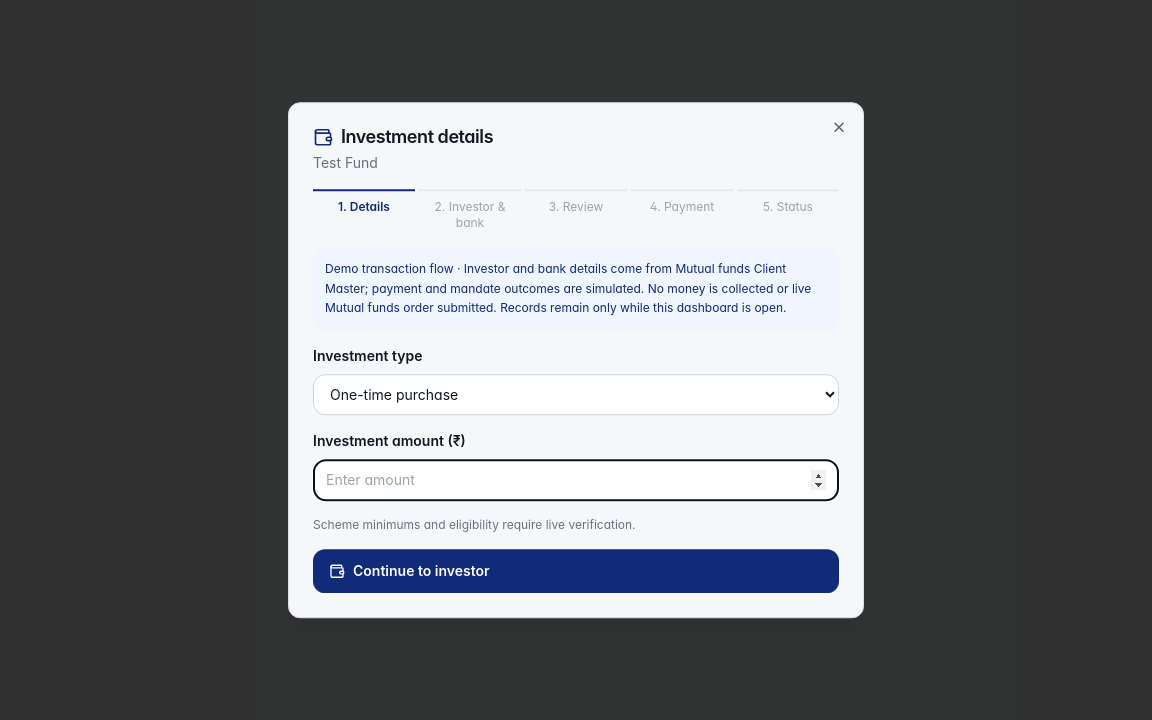
Mutual funds client master investor selection › blocks investment review for no KYC record and rechecks before allowing progression
This screenshot has width=1152, height=720.
Type "500" into the number field labelled "Investment amount (₹)" at (576, 480), box [313,459,839,501]
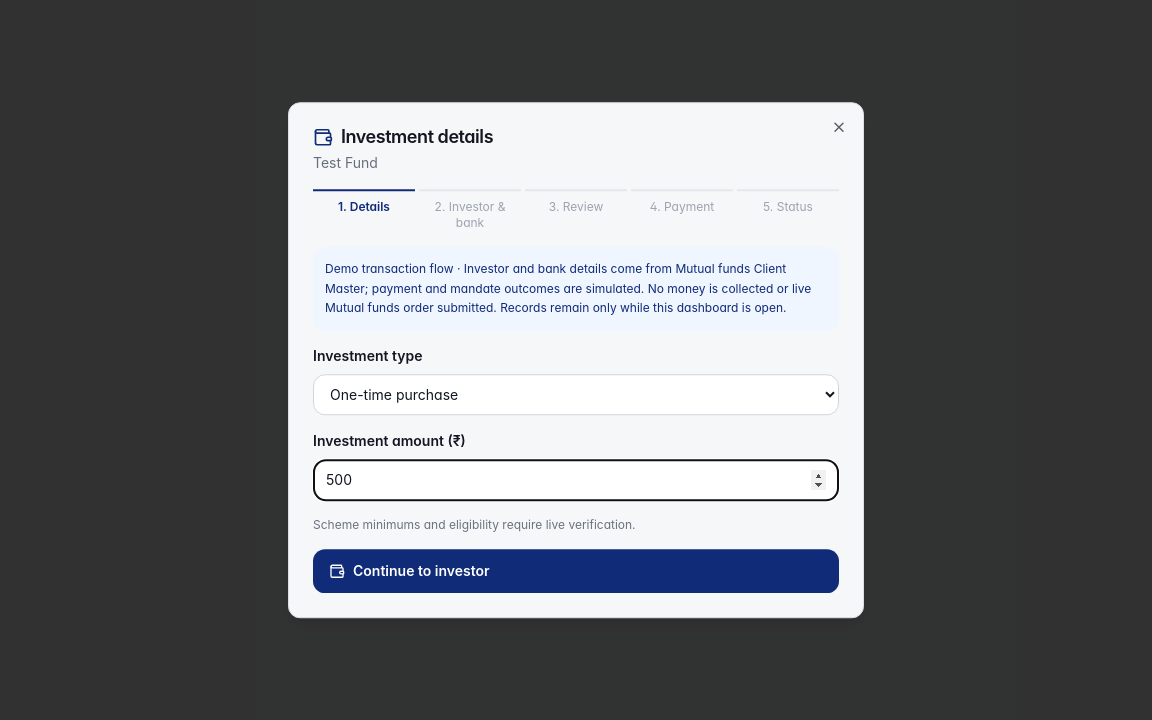
Click the button "Continue to investor" at (421, 570), box [313,549,839,593]
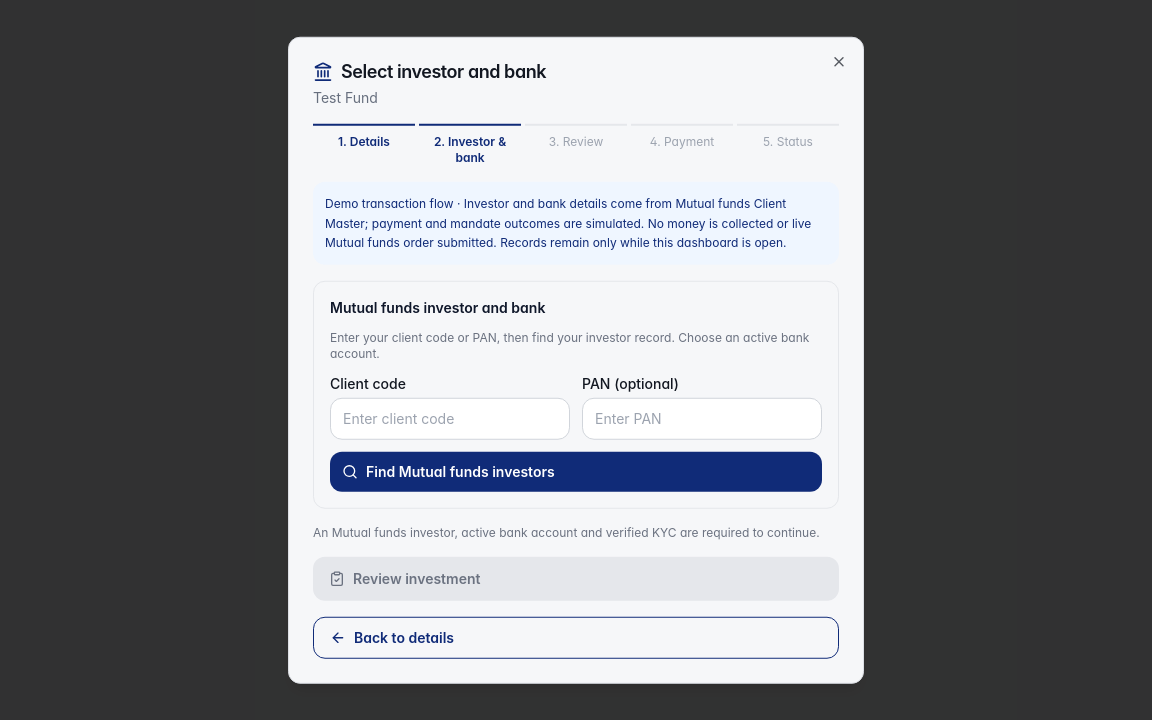
Type "TEST001" into the field labelled "Client code" at (450, 418), box [330,397,570,439]
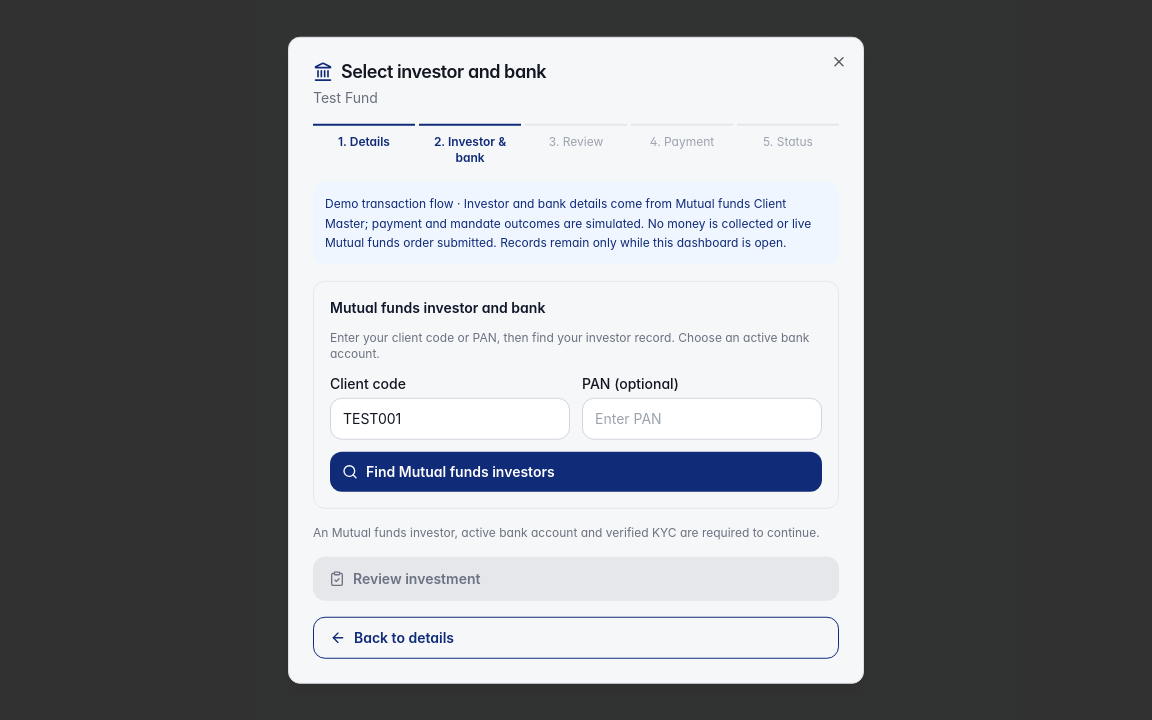
Click the button "Find Mutual funds investors" at (460, 471), box [330,451,822,491]
(page scrolled)
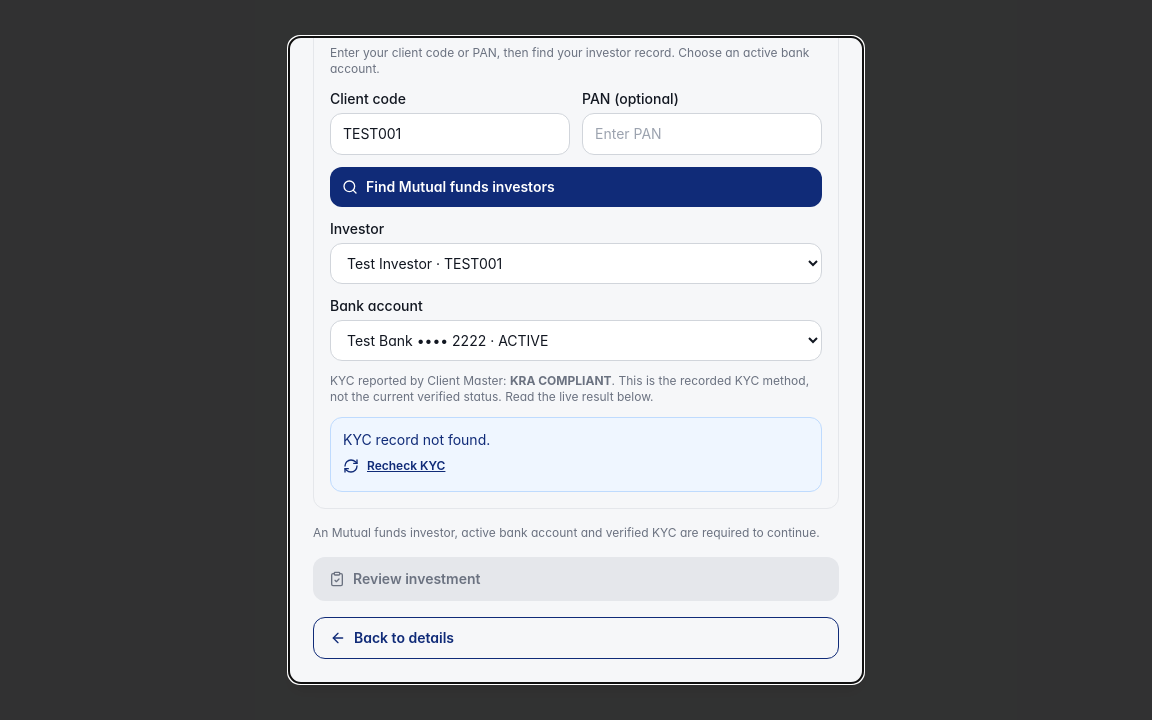
Expected: the button "Review investment" is disabled, [313,556,839,600]
Expected: the text "KYC record not found." is shown, [343,430,490,448]
Click the button "Recheck KYC" at (394, 466), box [343,458,445,474]
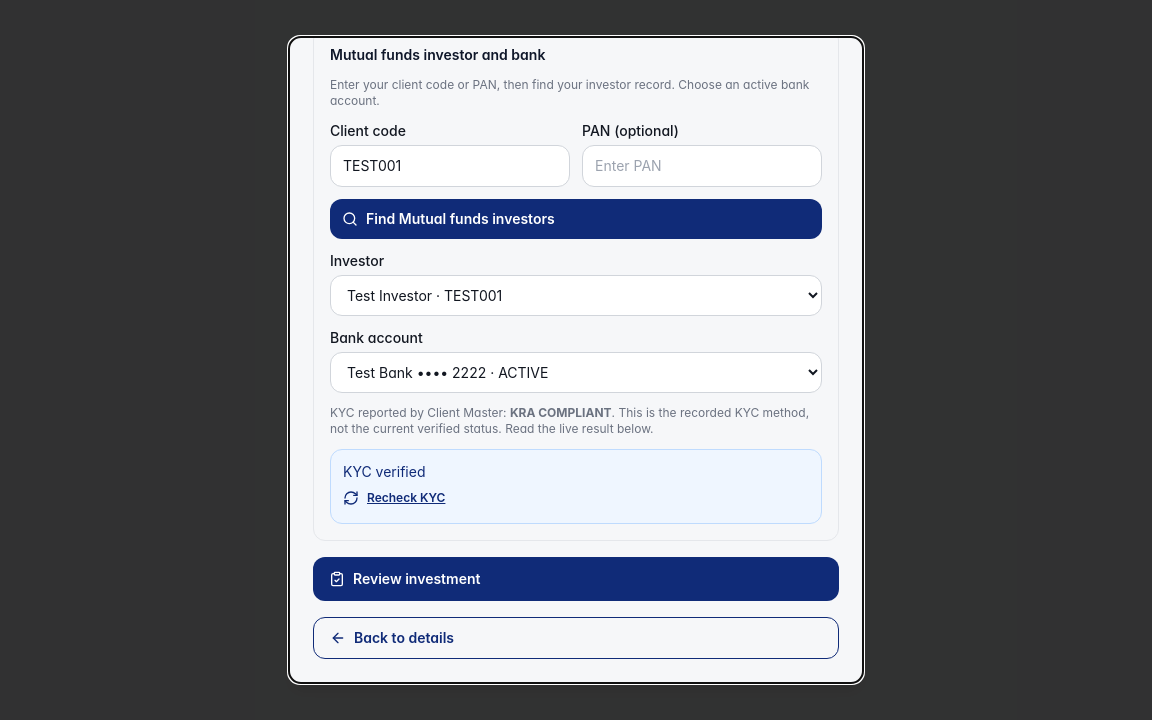
Expected: the button "Review investment" is enabled, [313,556,839,600]
